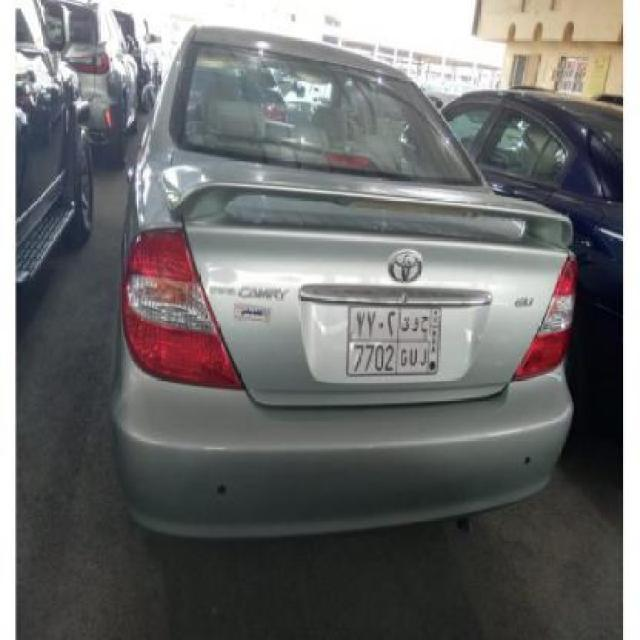license_plate: (345, 299, 443, 381)
